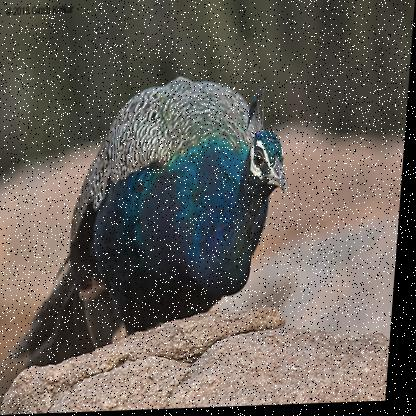Burung: (16, 73, 297, 369)
